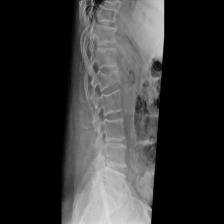compression-crush-fracture: (57, 1, 164, 224)
